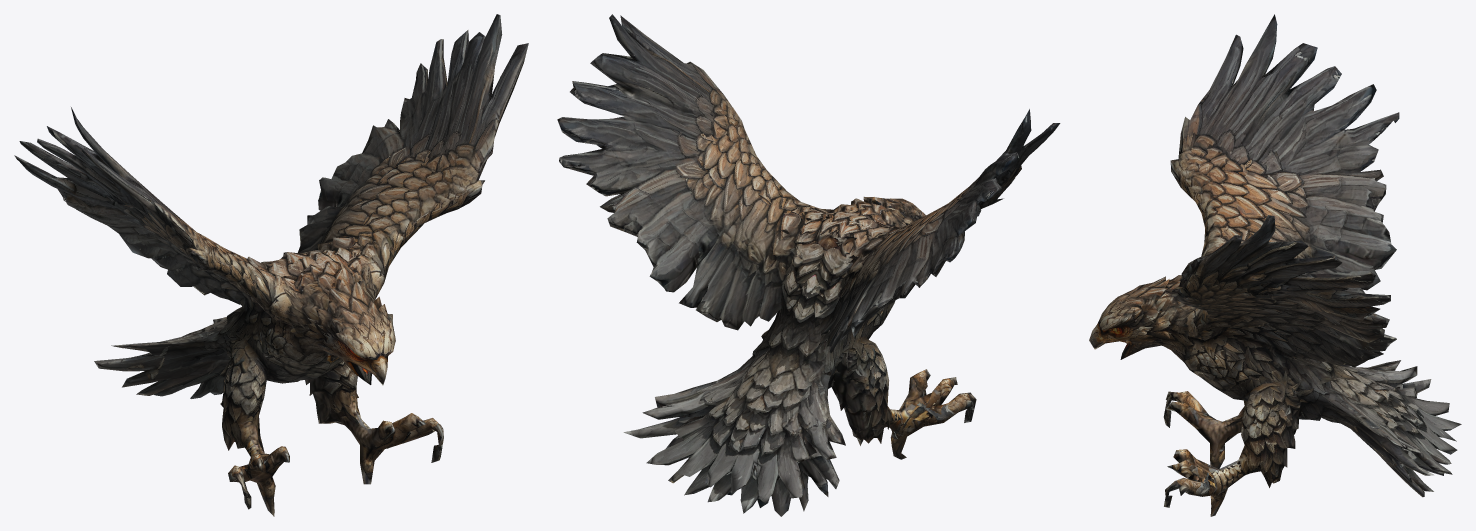
The model's file is Hawk.glb.
3 views of the same model, side by side, from view 1: azimuth 30°, elevation 25°; view 2: azimuth 150°, elevation 25°; view 3: azimuth 270°, elevation 25° (orthographic). The views are drawn at different scales.
Parts seen in each view (by area): view 1: texture_mapping; view 2: texture_mapping; view 3: texture_mapping.
Part boxes in pixels (x1=…): texture_mapping: x1=14, y1=14, x2=528, y2=516; texture_mapping: x1=557, y1=14, x2=1060, y2=516; texture_mapping: x1=1089, y1=14, x2=1461, y2=516.
Bounding box in the file's own units: 0.9482 × 0.8566 × 0.7463.
Materials: 1 (1 with a texture image).
